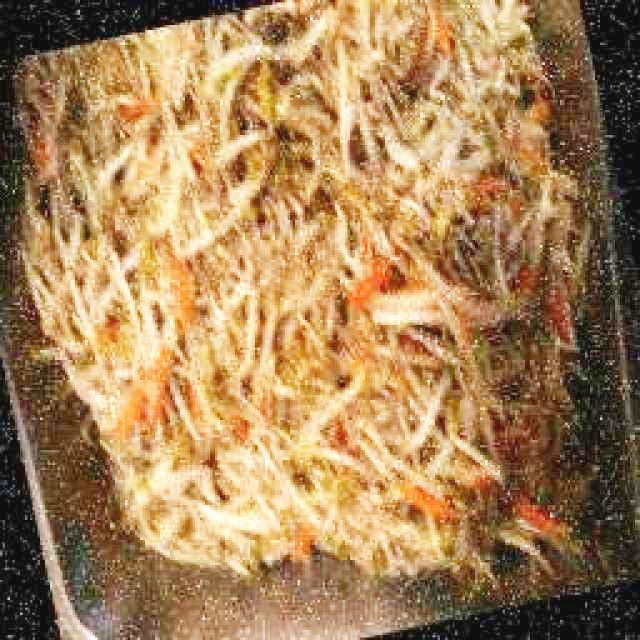mung_bean_sprouts: (71, 3, 543, 615)
